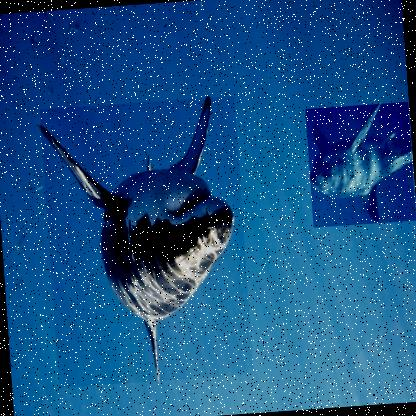white-shark: (40, 95, 255, 388), (305, 100, 415, 229)
